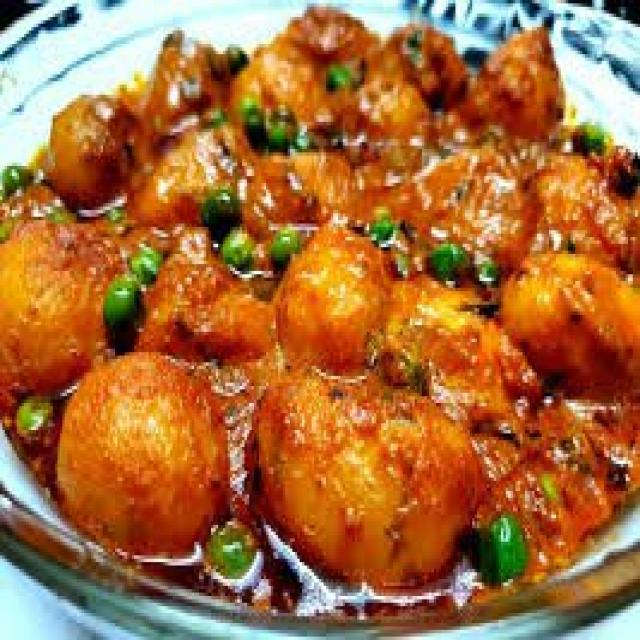aloo_matar: (7, 14, 640, 572)
